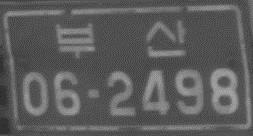-: (84, 86, 103, 101)
0: (21, 69, 50, 117)
2: (105, 69, 138, 117)
4: (141, 68, 171, 117)
6: (52, 70, 81, 116)
8: (208, 66, 240, 115)
9: (173, 68, 205, 116)
부산_D: (54, 18, 188, 58)
